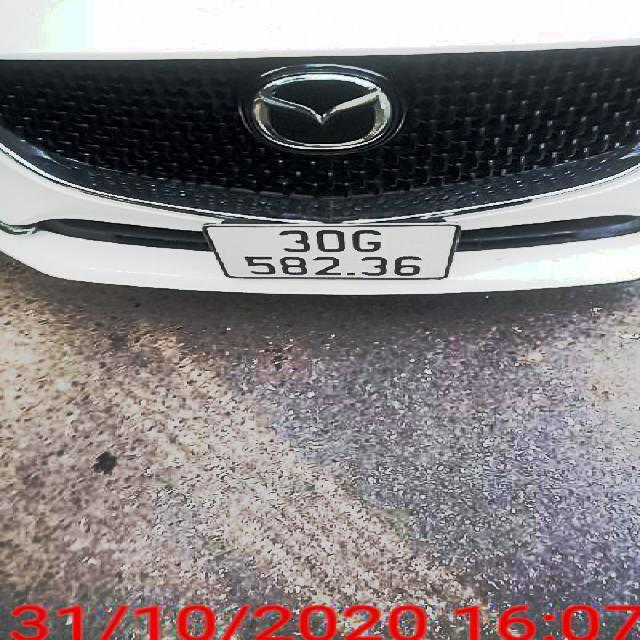license_plate: (210, 222, 463, 280)
